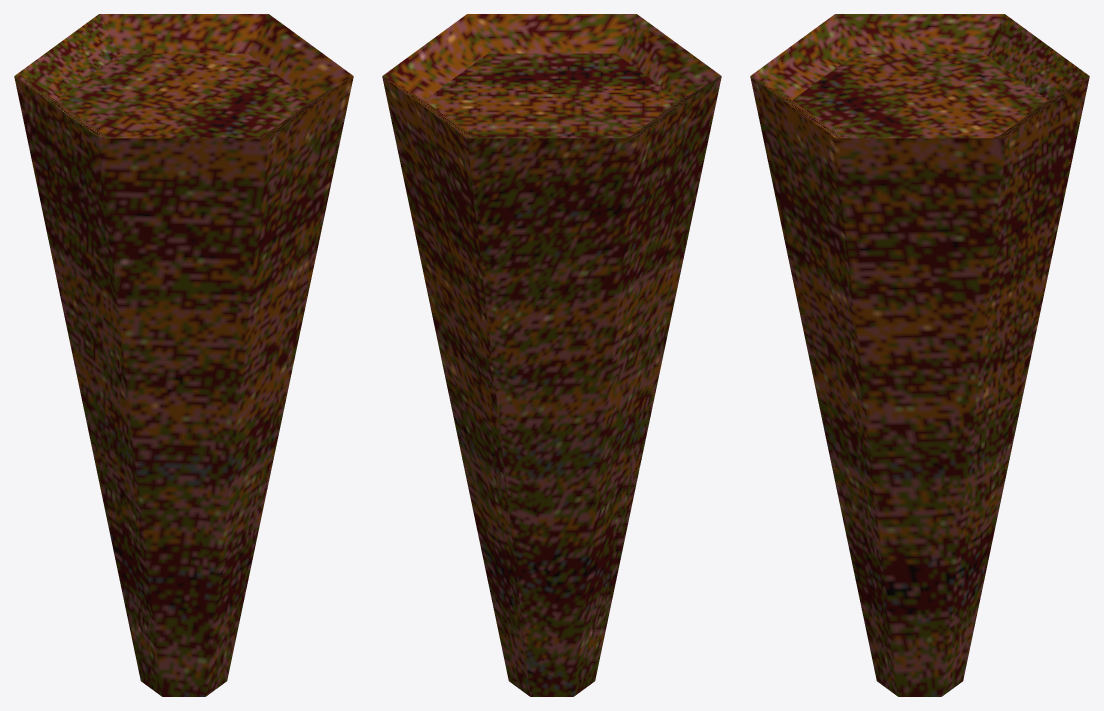
Rendered from Torch01.obj.
3 views of the same model, side by side, from view 1: azimuth 30°, elevation 25°; view 2: azimuth 150°, elevation 25°; view 3: azimuth 270°, elevation 25° (orthographic).
Parts seen in each view (by area): view 1: Torch01_Cylinder.001; view 2: Torch01_Cylinder.001; view 3: Torch01_Cylinder.001.
Part boxes in pixels (x1=…): Torch01_Cylinder.001: x1=14, y1=14, x2=353, y2=696; Torch01_Cylinder.001: x1=382, y1=14, x2=721, y2=696; Torch01_Cylinder.001: x1=750, y1=14, x2=1089, y2=696.
Bounding box in the file's own units: 1.03 × 2.34 × 1.19.
